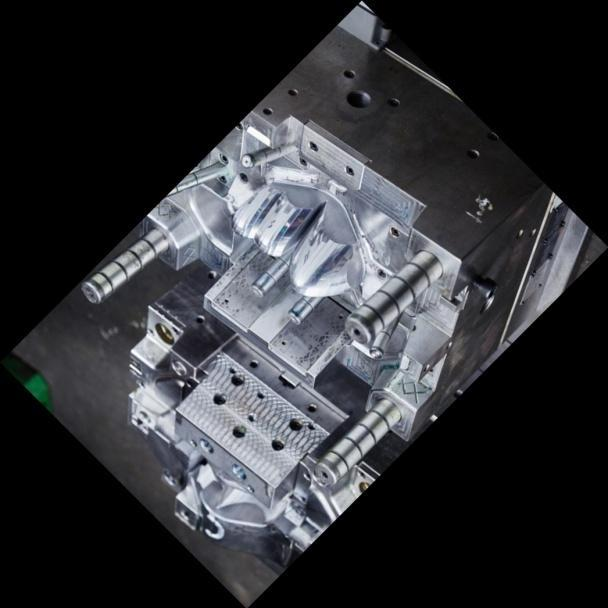hole: (339, 79, 376, 115)
